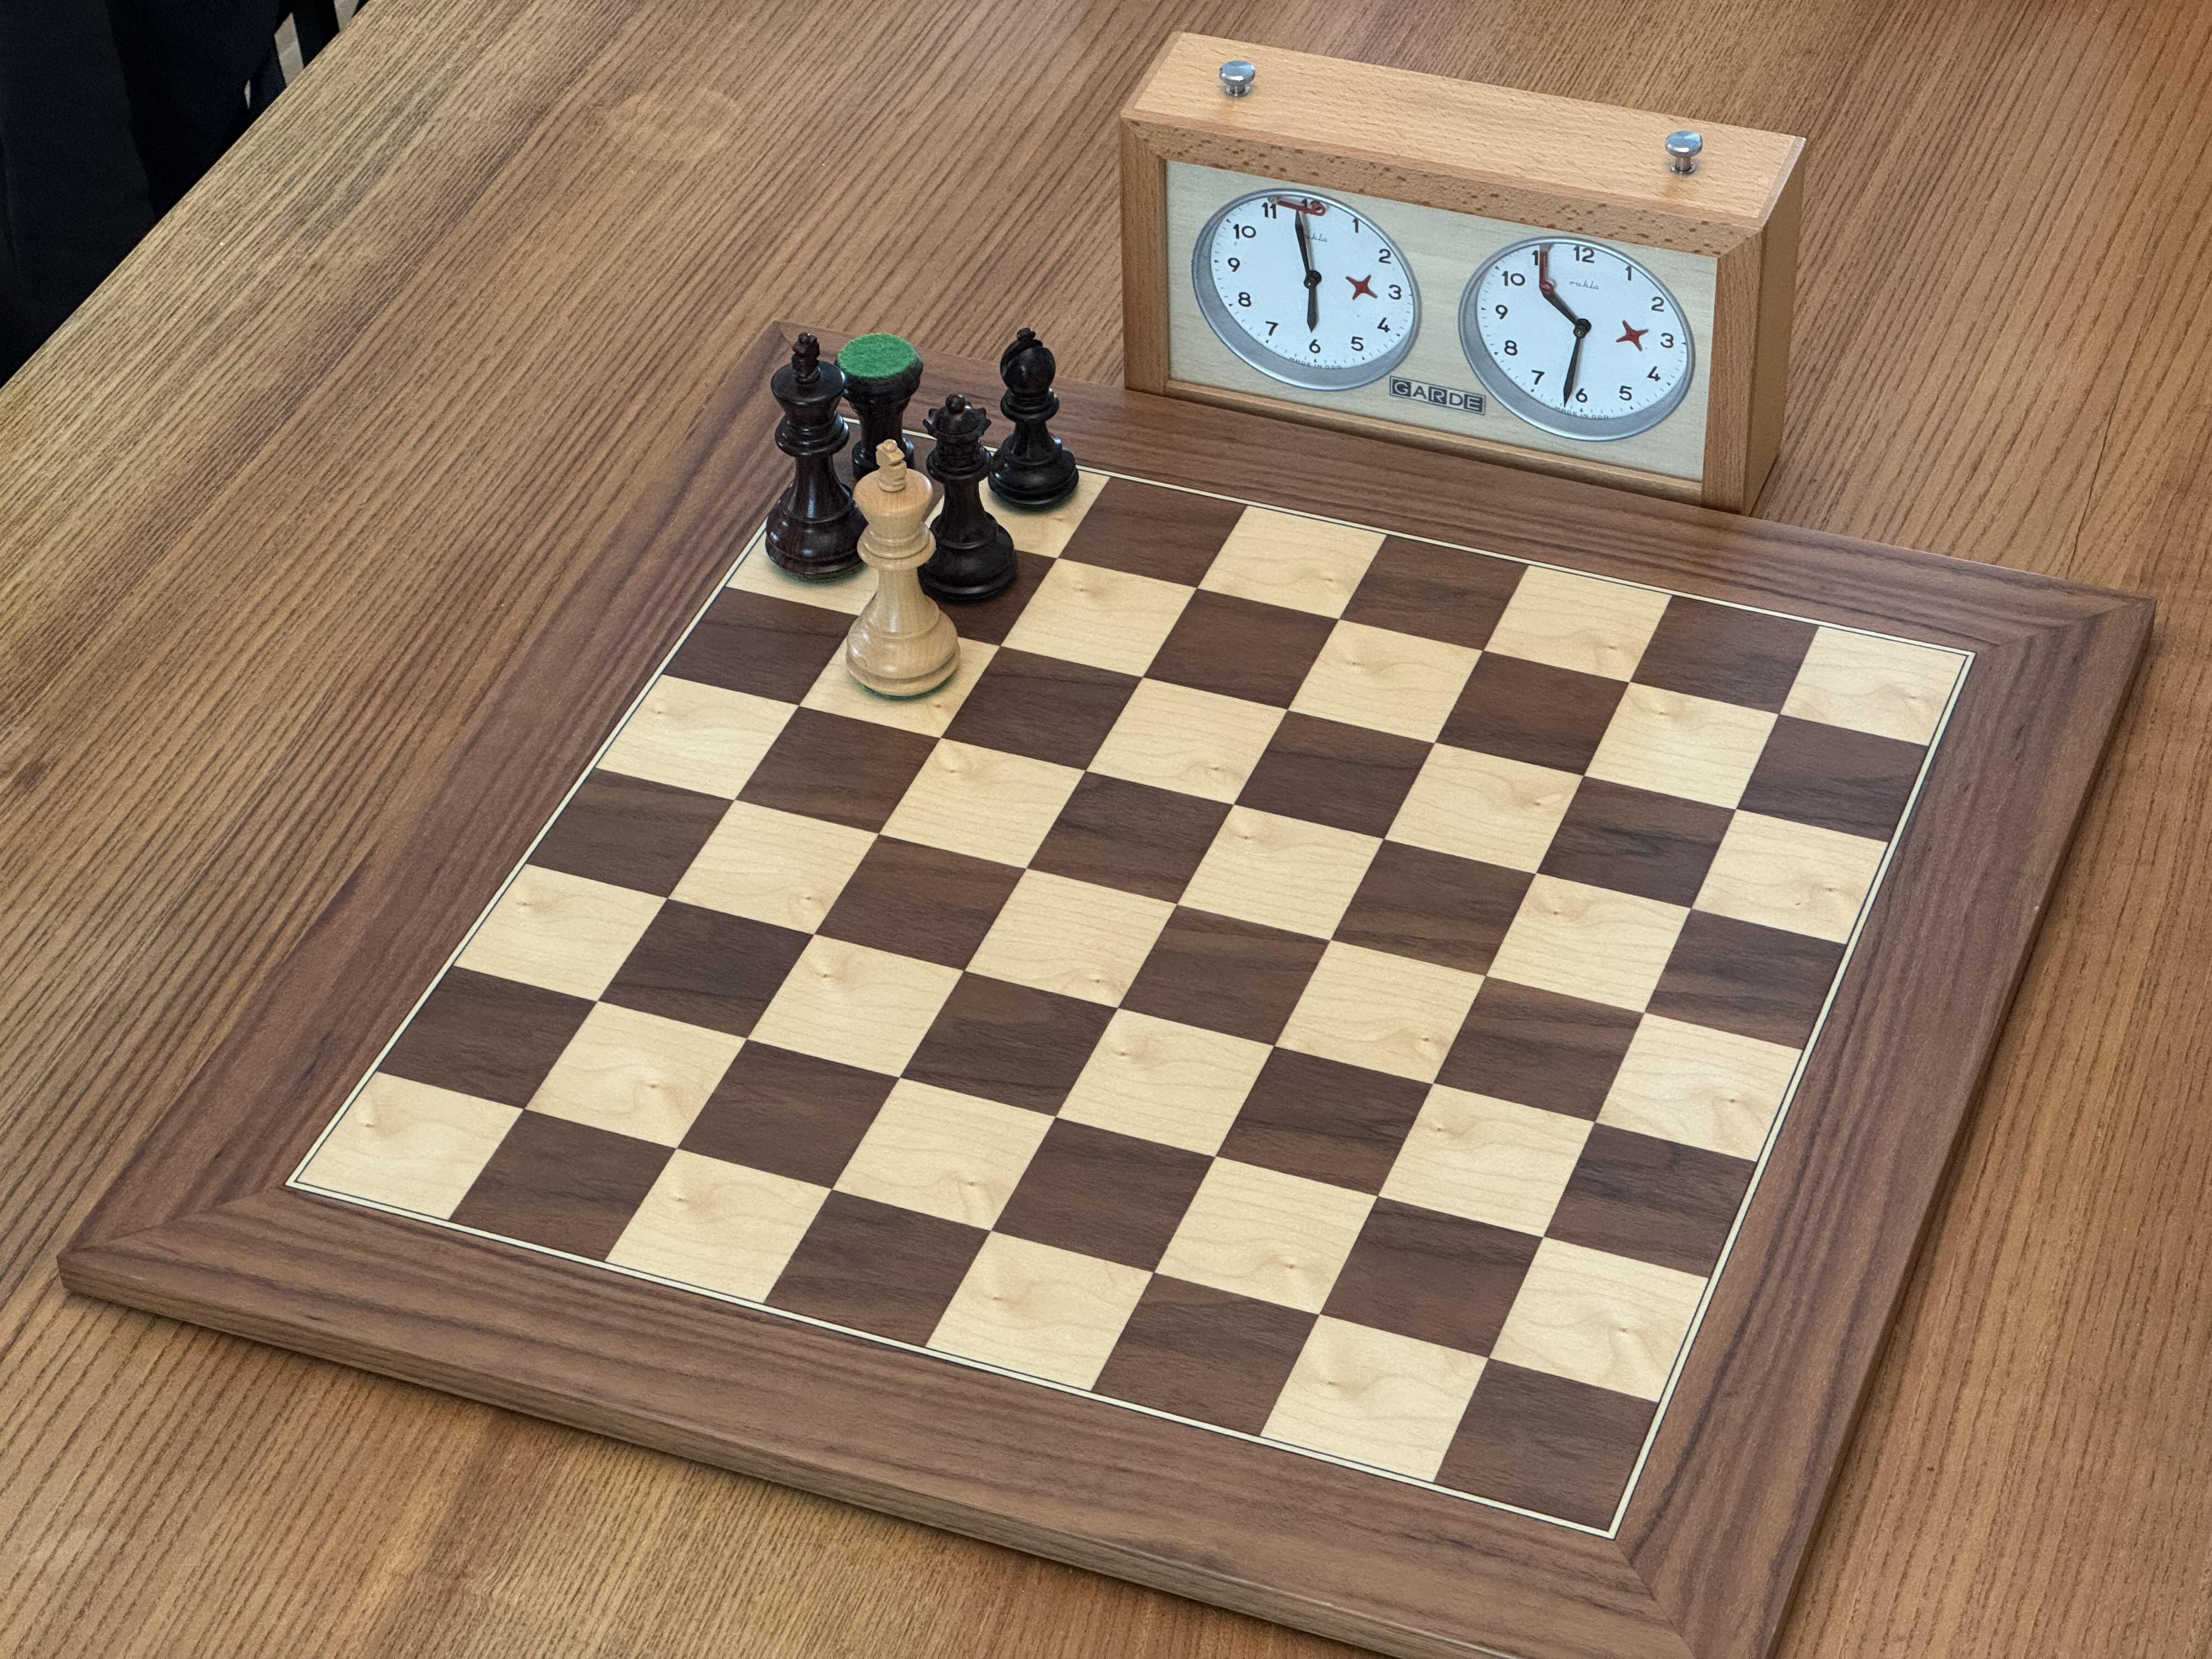Black Extra Queen: (830, 330, 929, 493)
